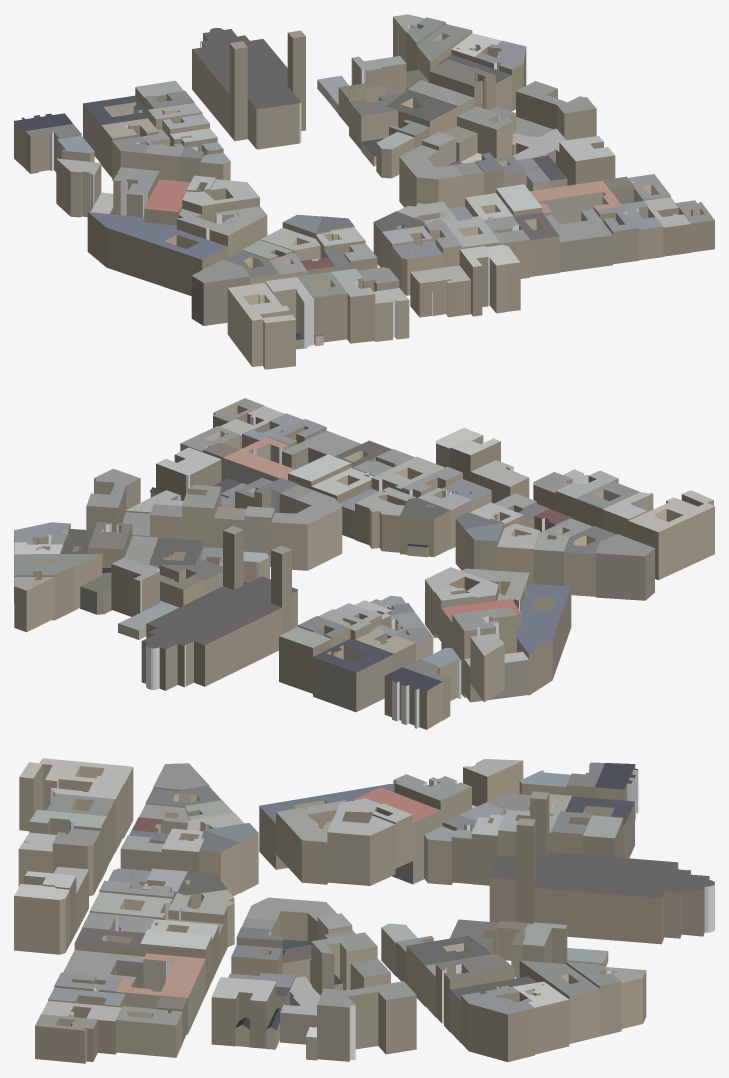
3 renders of one model, top to bottom at view 1: azimuth 30°, elevation 25°; view 2: azimuth 150°, elevation 25°; view 3: azimuth 270°, elevation 25°, orthographic. The views are drawn at different scales.
Visible parts, largest first — view 1: tuile; view 2: tuile; view 3: tuile.
Part boxes in pixels (left/top/right/bottom): tuile: left=14, top=14, right=714, bottom=369; tuile: left=14, top=398, right=714, bottom=729; tuile: left=14, top=758, right=714, bottom=1063.
Size of the model in its own units: 264 by 69.51 by 294.
